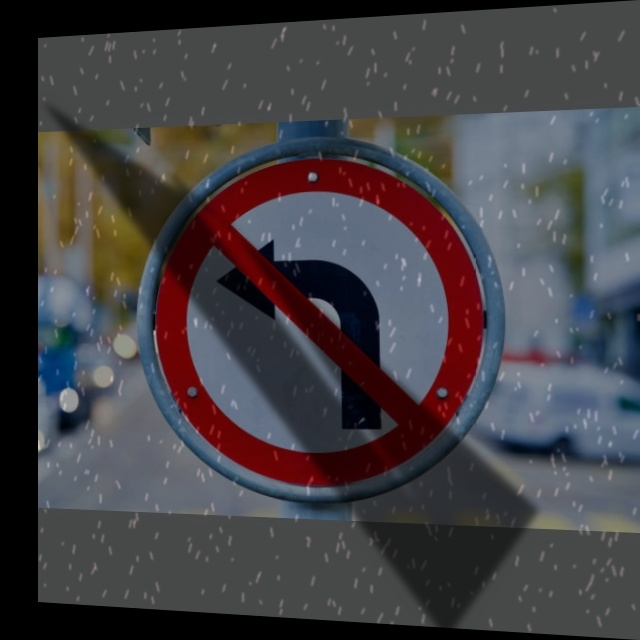Left_Turn_Prohibited: (138, 131, 504, 503)
